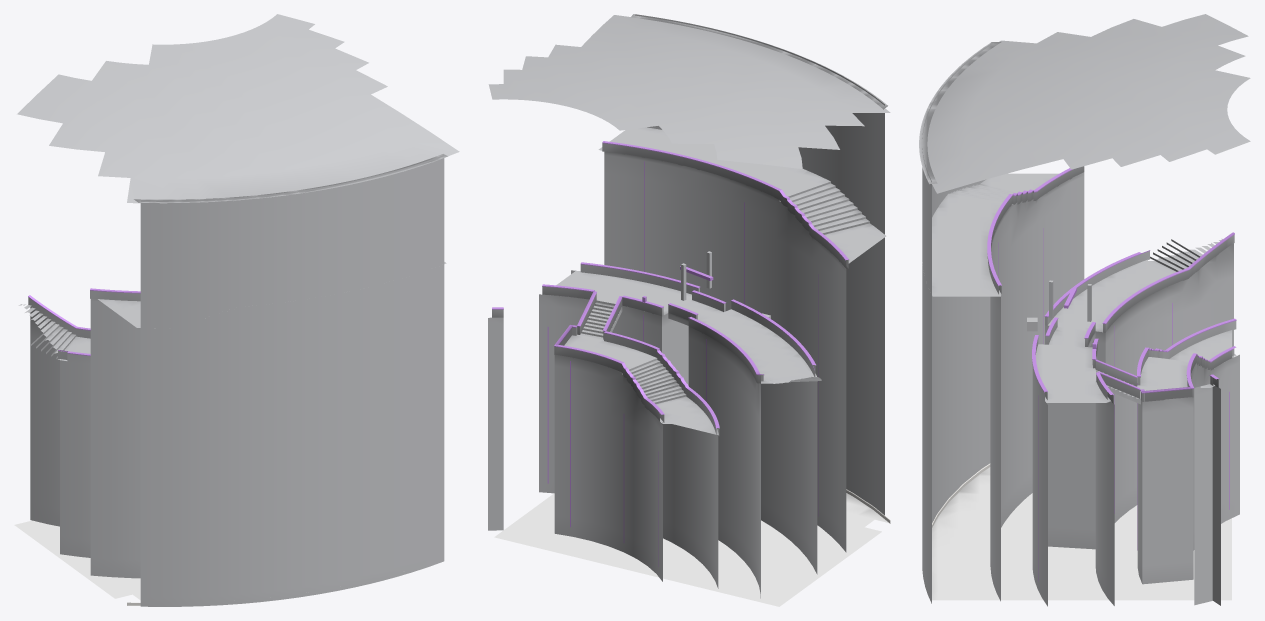
File: crypt_10_af.glb
3 views of the same model, side by side, from view 1: azimuth 30°, elevation 25°; view 2: azimuth 150°, elevation 25°; view 3: azimuth 270°, elevation 25° (orthographic). The views are drawn at different scales.
Parts seen in each view (by area): view 1: crypt_10_af; view 2: crypt_10_af; view 3: crypt_10_af.
Boxes of the visible parts, x1,y1,x2,y2 form: crypt_10_af: (14,14,459,606); crypt_10_af: (488,14,890,606); crypt_10_af: (919,14,1250,606).
Bounding box in the file's own units: 36.17 × 47.88 × 31.6.
